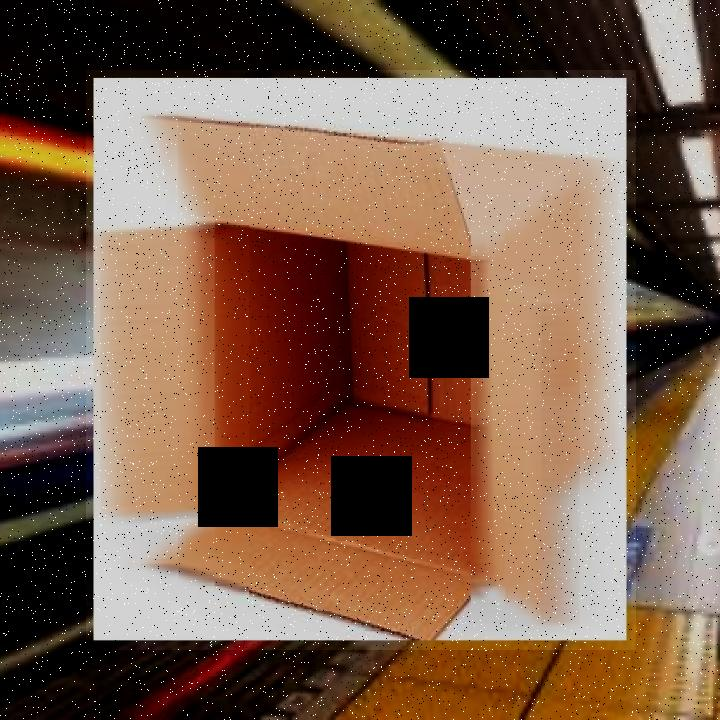box: (86, 70, 636, 650)
